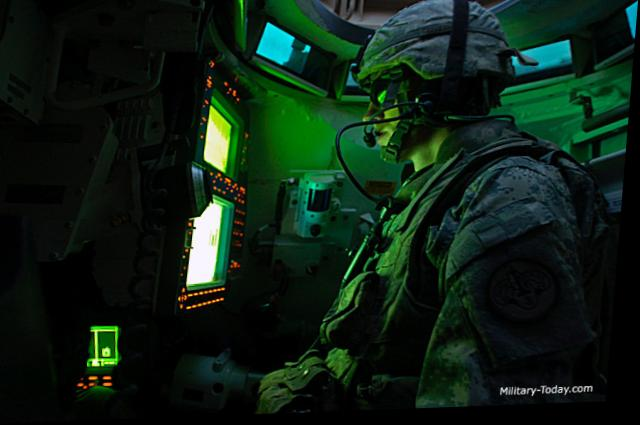other: (304, 0, 602, 388)
